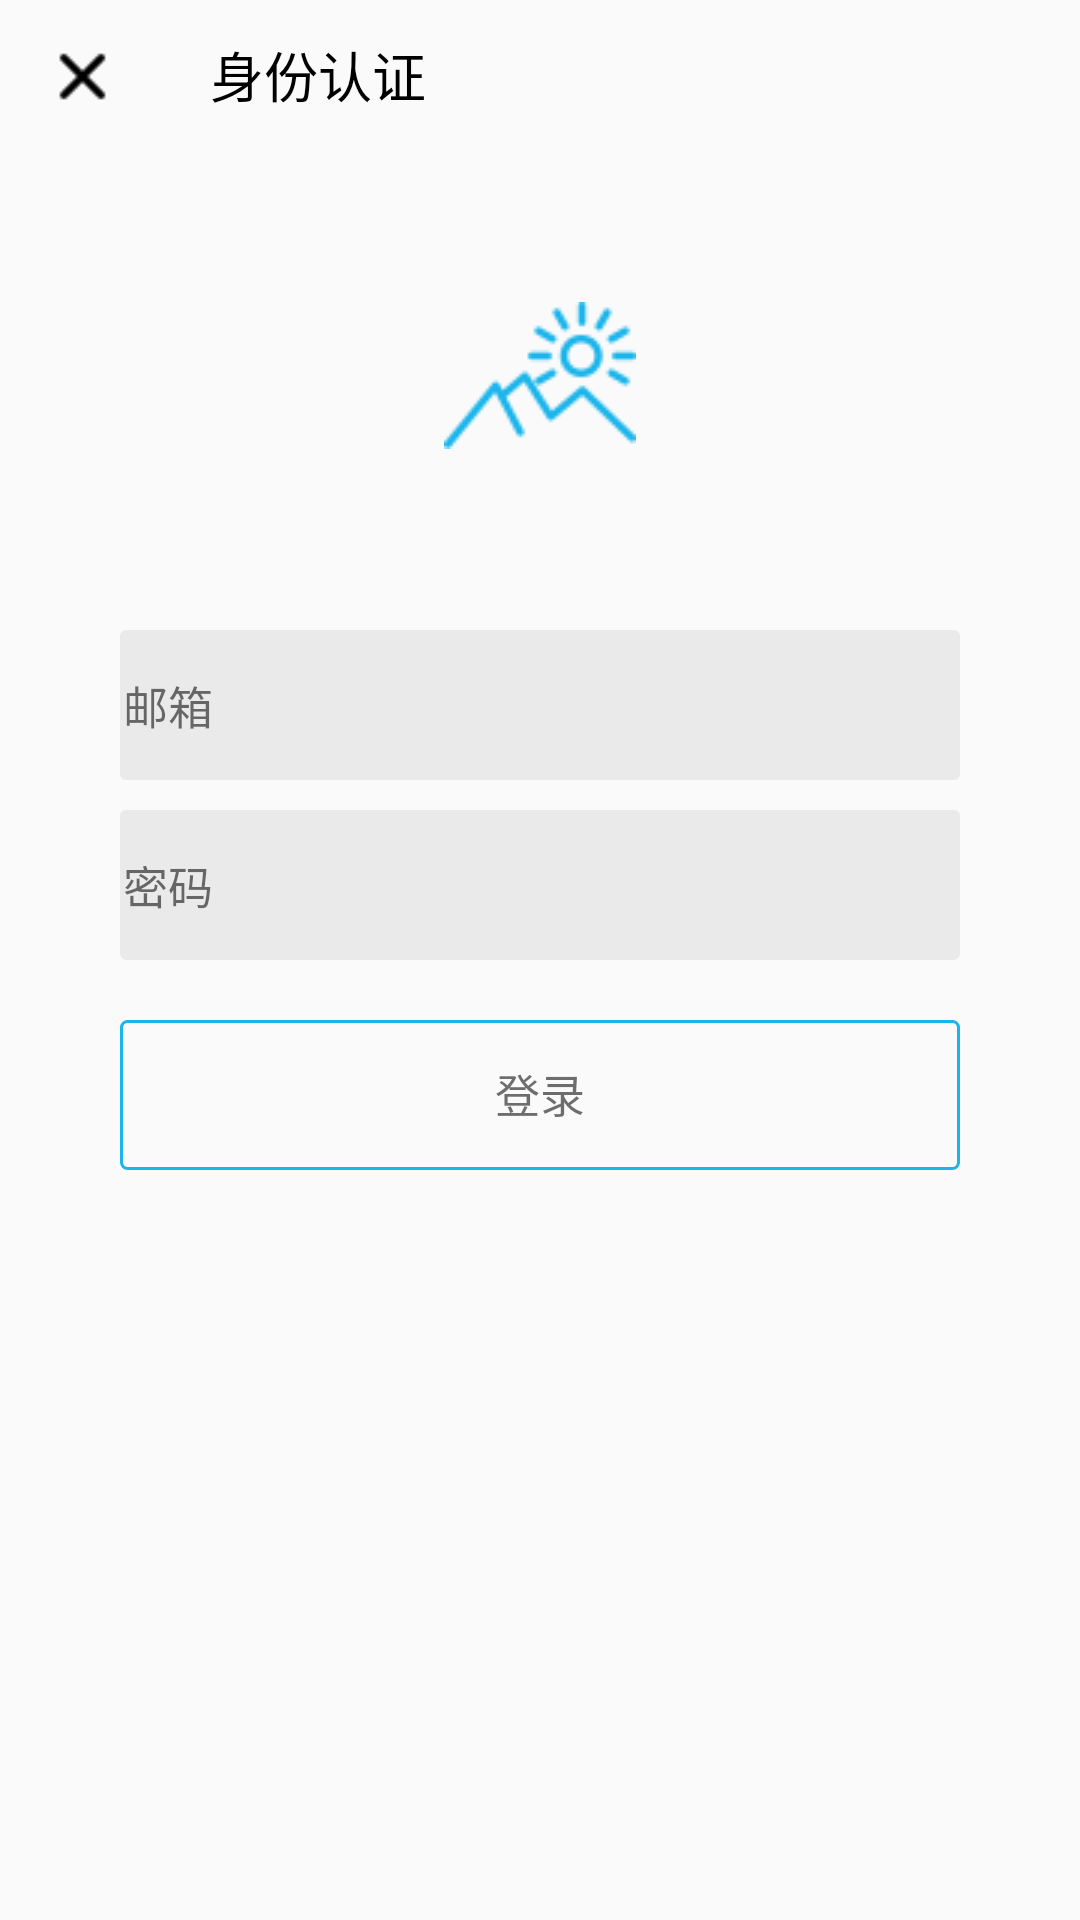

Named icons in this screenshot (1080×1920) and their centers, (x=x, y=y):
cancel: (x=82, y=76)
sun: (x=540, y=375)
